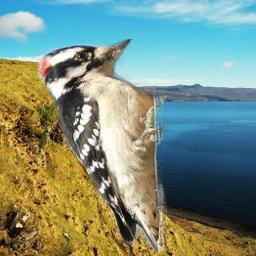Woodpecker: (37, 39, 167, 252)
